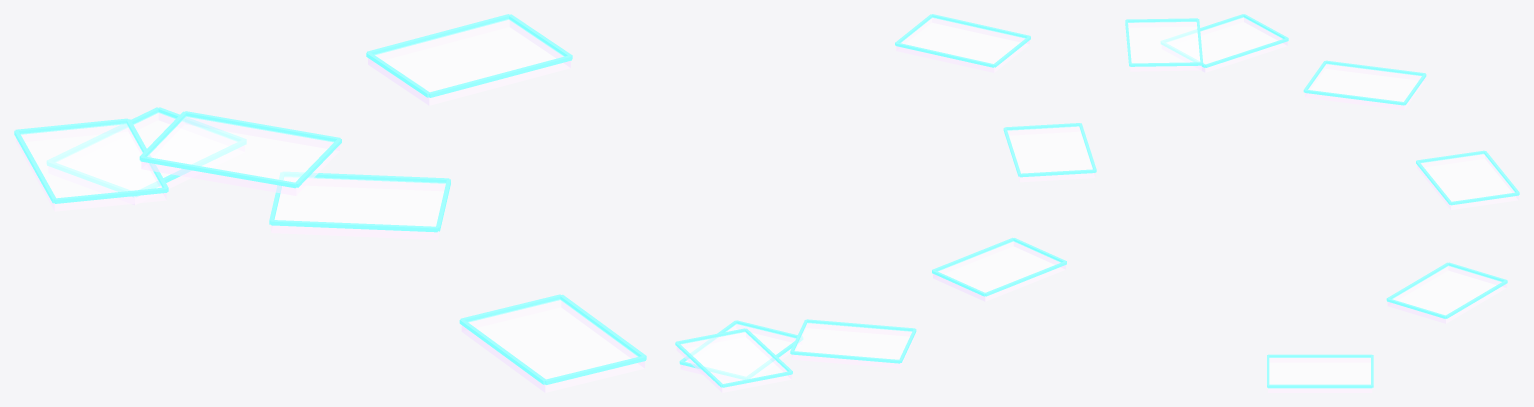
Rendered from prop_invisible_steps.glb.
3 views of the same model, side by side, from view 1: azimuth 30°, elevation 25°; view 2: azimuth 150°, elevation 25°; view 3: azimuth 270°, elevation 25° (orthographic). The views are drawn at different scales.
Parts seen in each view (by area): view 1: prop_invisible_steps_ghost, prop_invisible_steps_glow; view 2: prop_invisible_steps_ghost, prop_invisible_steps_glow; view 3: prop_invisible_steps_ghost, prop_invisible_steps_glow.
Boxes of the visible parts, x1,y1,x2,y2 form: prop_invisible_steps_ghost: [16, 19, 644, 392]; prop_invisible_steps_glow: [14, 14, 646, 384]; prop_invisible_steps_ghost: [676, 17, 1095, 392]; prop_invisible_steps_glow: [675, 14, 1096, 387]; prop_invisible_steps_ghost: [1128, 17, 1518, 392]; prop_invisible_steps_glow: [1125, 14, 1519, 388].
Size of the model in its own units: 6.04 by 4.63 by 6.07.
